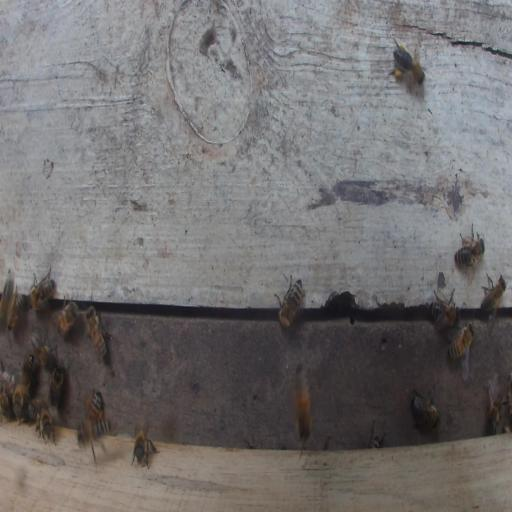nonpollenbee: (85, 303, 109, 363), (295, 365, 312, 441), (453, 231, 485, 271), (411, 386, 440, 430), (130, 425, 159, 468), (27, 267, 55, 311), (279, 278, 303, 328), (480, 272, 506, 317), (447, 321, 475, 360), (31, 328, 57, 368), (55, 297, 80, 336), (35, 406, 57, 446), (77, 419, 110, 444), (428, 301, 458, 326), (8, 294, 27, 331), (48, 365, 65, 406), (365, 422, 386, 448), (487, 397, 500, 436), (12, 383, 28, 414), (1, 278, 13, 319), (0, 370, 10, 416), (21, 353, 34, 387), (21, 402, 37, 421)
pollenbee: (392, 44, 426, 86), (87, 391, 102, 419)
